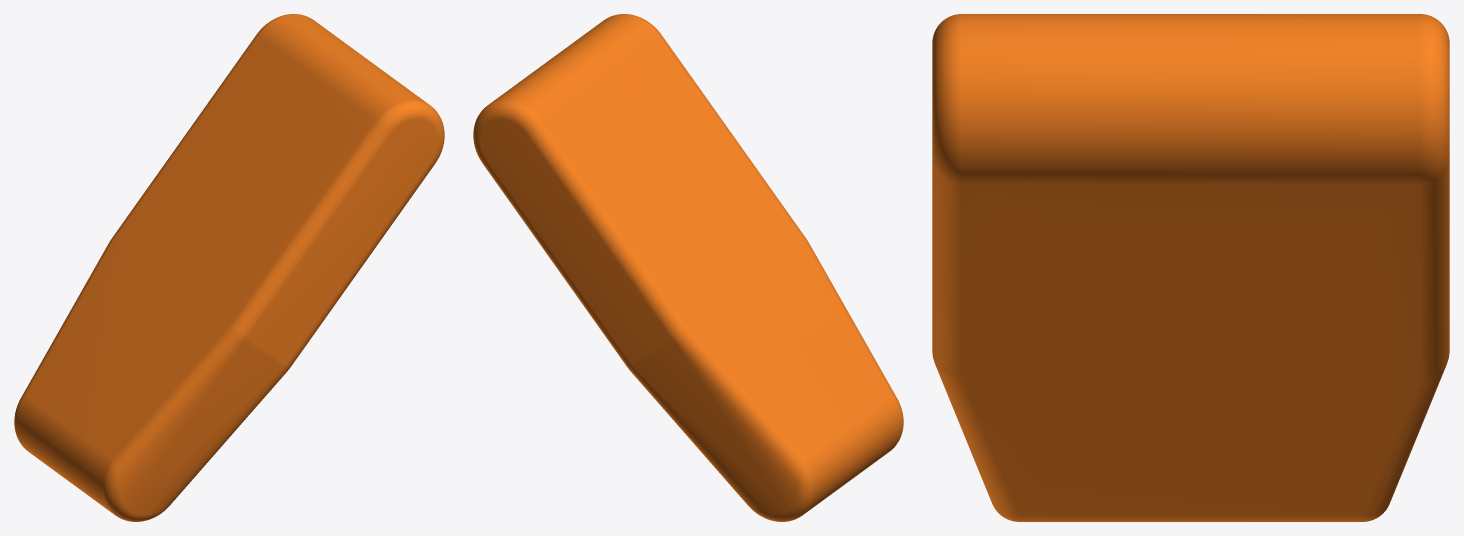
The picture shows the model from 3 angles, left to right: view 1: azimuth 30°, elevation 25°; view 2: azimuth 150°, elevation 25°; view 3: azimuth 270°, elevation 25°; orthographic projection. The views are drawn at different scales.
Visible parts, largest first — view 1: gripper_frame; view 2: gripper_frame; view 3: gripper_frame.
Boxes of the visible parts, left/top/right/bottom form: gripper_frame: left=14, top=14, right=444, bottom=521; gripper_frame: left=473, top=14, right=903, bottom=521; gripper_frame: left=932, top=14, right=1449, bottom=521.
Bounding box in the file's own units: 0.0502 × 0.0545 × 0.035.
